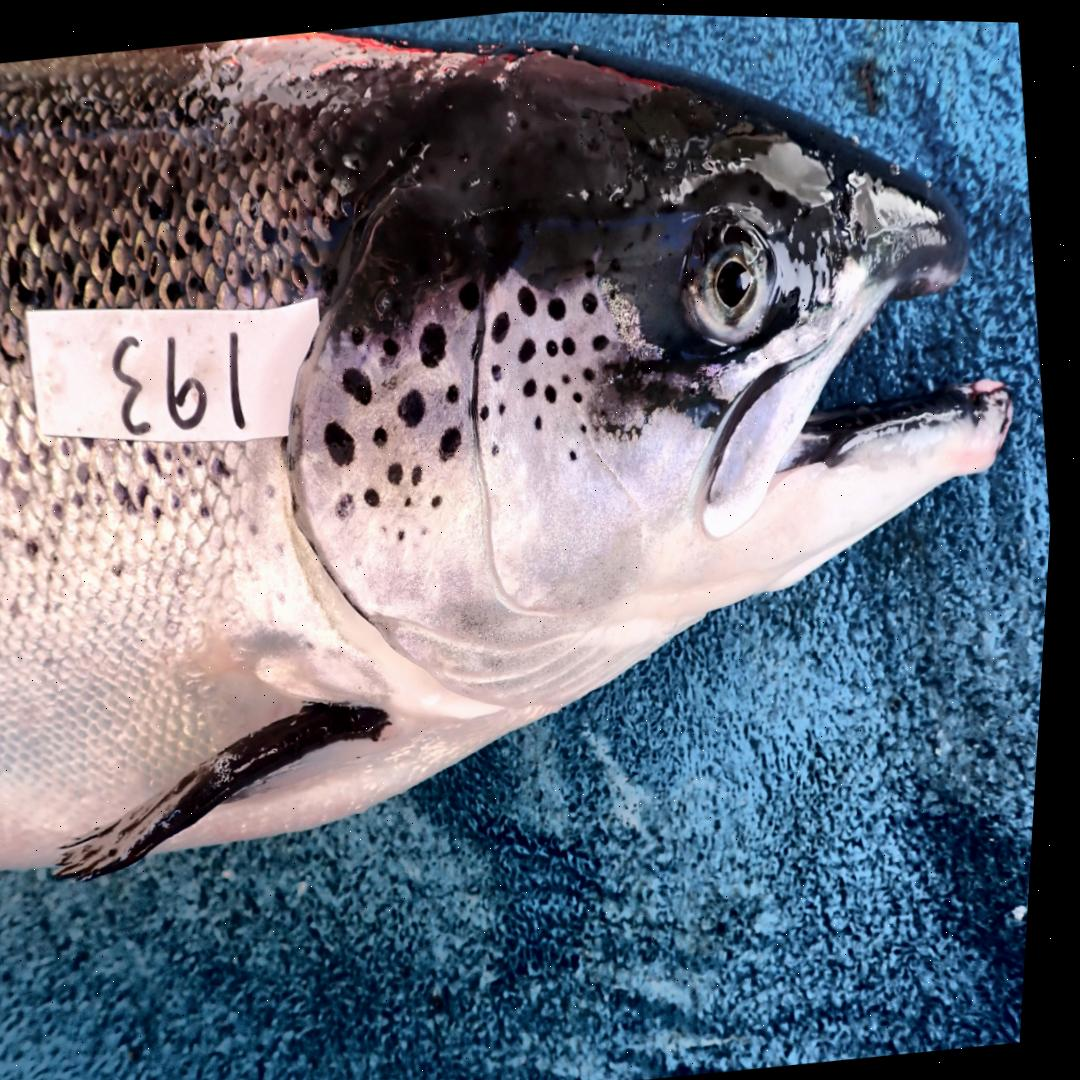spot: (328, 420, 359, 464), (421, 320, 450, 365), (346, 364, 376, 402), (402, 385, 429, 424), (443, 422, 466, 459), (460, 278, 482, 308), (520, 282, 539, 311), (494, 308, 512, 338), (340, 490, 359, 517), (550, 293, 568, 317), (522, 334, 538, 359), (368, 484, 385, 505), (392, 461, 407, 482), (585, 290, 599, 311), (386, 334, 402, 352), (595, 330, 611, 348), (450, 381, 463, 402), (527, 376, 541, 394), (377, 424, 391, 442), (564, 333, 578, 351), (416, 461, 427, 483), (547, 380, 559, 400), (354, 325, 367, 343), (548, 335, 560, 353), (494, 361, 506, 377), (436, 491, 448, 506), (586, 364, 598, 376), (484, 401, 493, 416), (538, 411, 546, 425), (409, 492, 417, 505), (583, 419, 591, 431), (426, 522, 434, 533), (502, 399, 509, 411), (496, 441, 503, 453), (577, 389, 586, 398), (566, 370, 574, 380), (402, 528, 410, 537), (574, 448, 582, 457)
